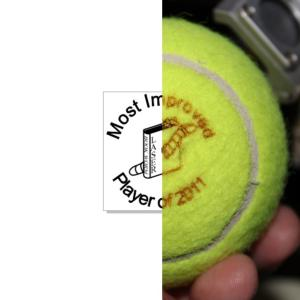TennisBall: (163, 16, 290, 292)
